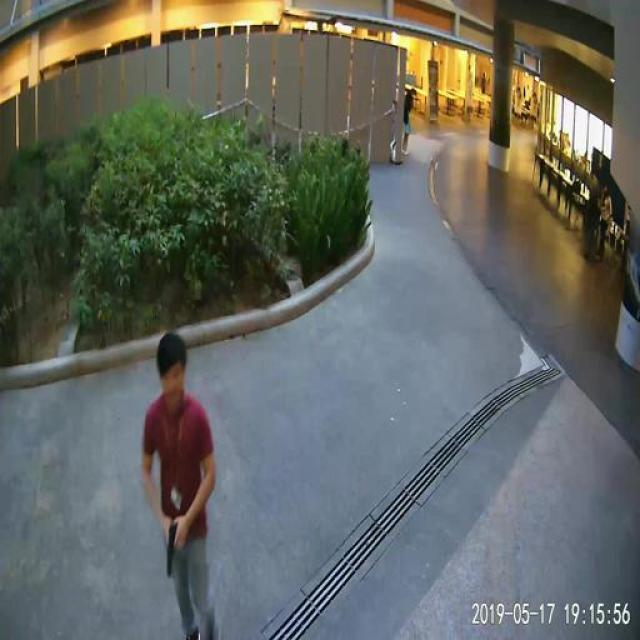Gun: (158, 509, 190, 591)
